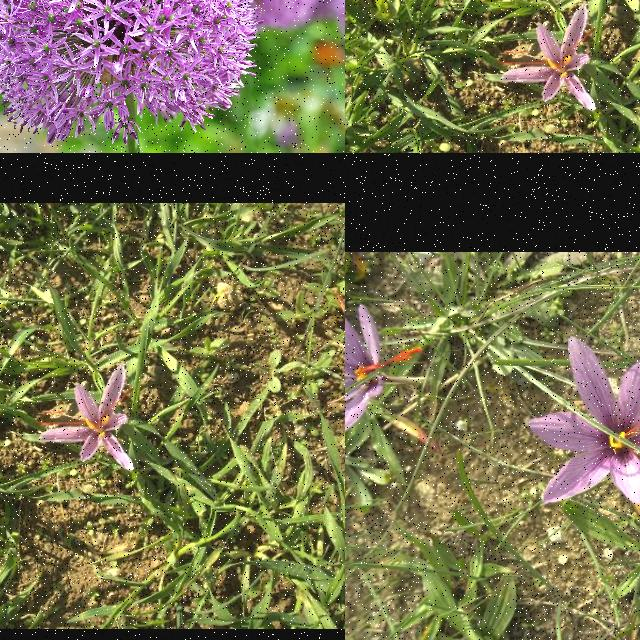flower: (526, 338, 640, 504), (345, 304, 423, 443), (502, 4, 598, 110), (41, 364, 136, 470)
